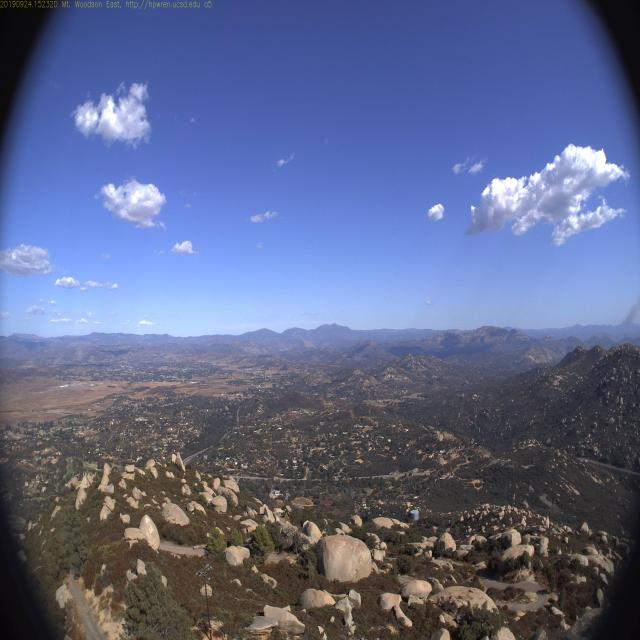smoke: (612, 294, 640, 335)
